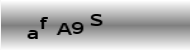9: (71, 21, 83, 34)
A: (55, 22, 72, 35)
S: (89, 13, 102, 26)
a: (26, 29, 38, 39)
f: (39, 16, 48, 29)
